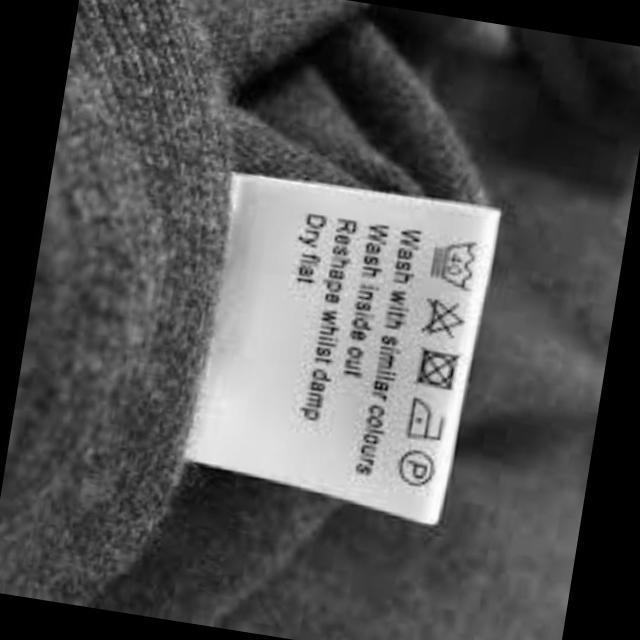40C: (426, 232, 484, 296)
DN_bleach: (417, 294, 471, 344)
DN_tumble_dry: (412, 345, 464, 395)
iron_low: (402, 395, 449, 447)
normal_dry_clean_solvents: (393, 447, 440, 493)
